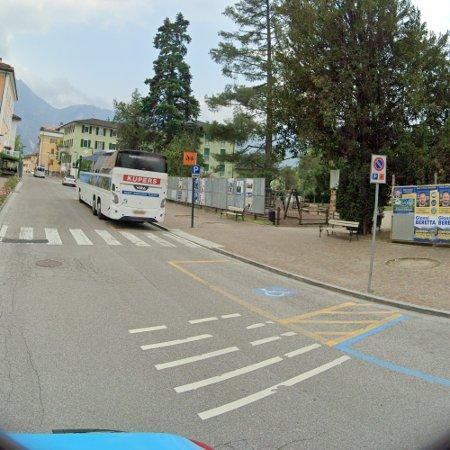buses: (78, 150, 168, 221)
